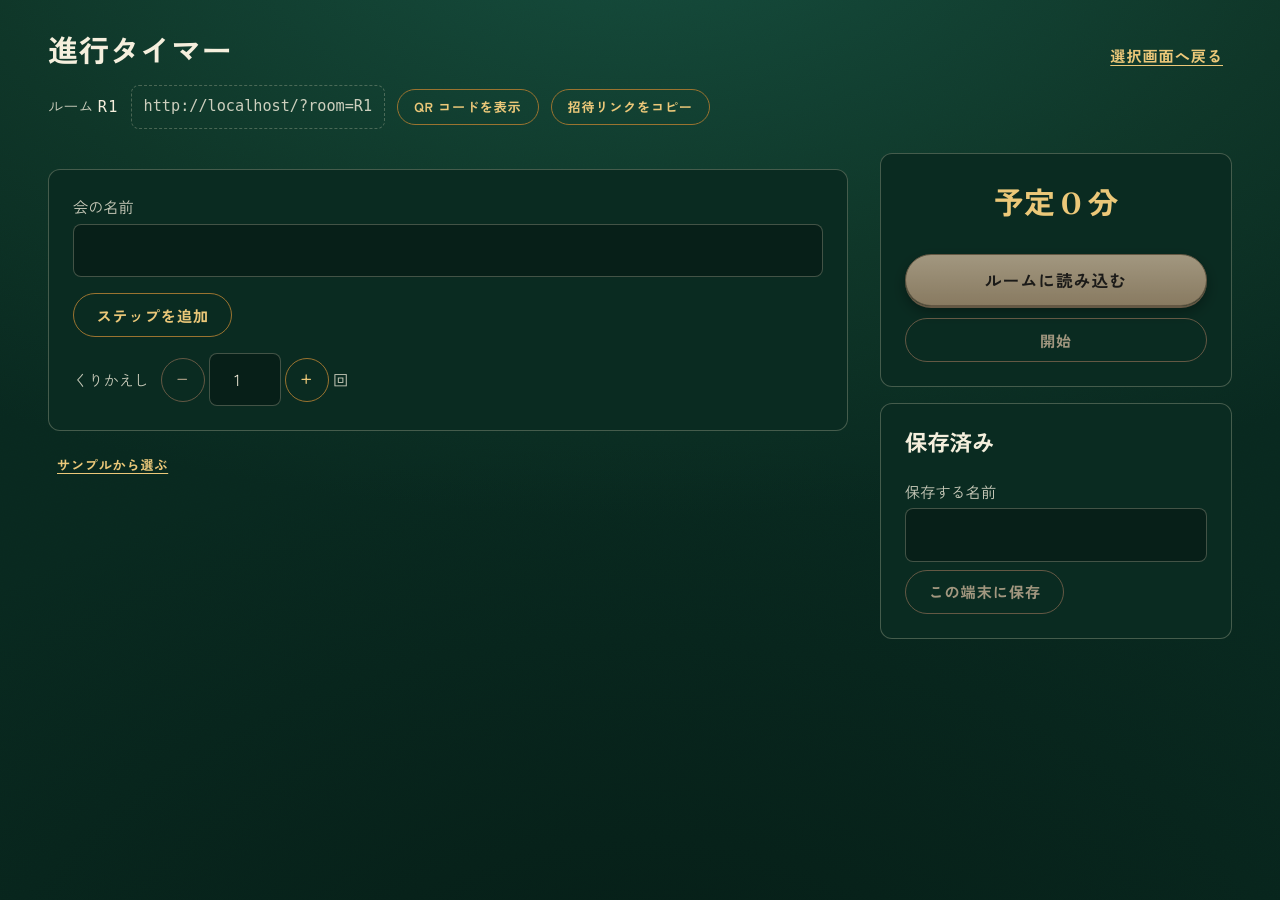
組む画面 › Given ルームも下書きも空 / When 一覧を開く / Then 3 行が名前と全部の分・回数を 1 行ずつ出す
Click the button "サンプルから選ぶ".
click(113, 465)  # box [48, 447, 177, 483]
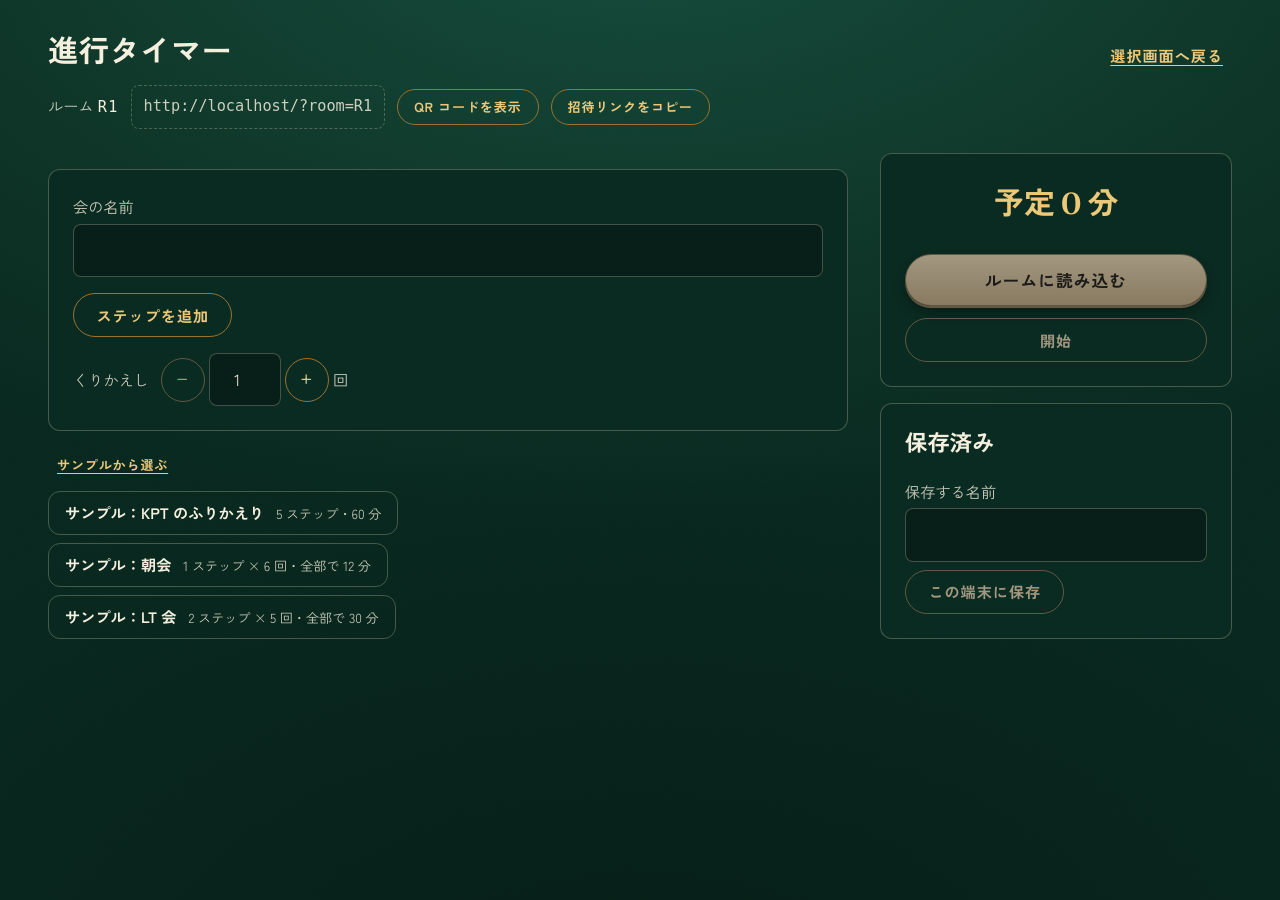
Now the number of buttons "サンプル：KPT のふりかえり 5 ステップ・60 分" is 3, box [48, 491, 398, 535]; [48, 543, 388, 587]; [48, 595, 396, 639]
Now the text "5 ステップ・60 分" is shown, box [276, 503, 381, 526]
